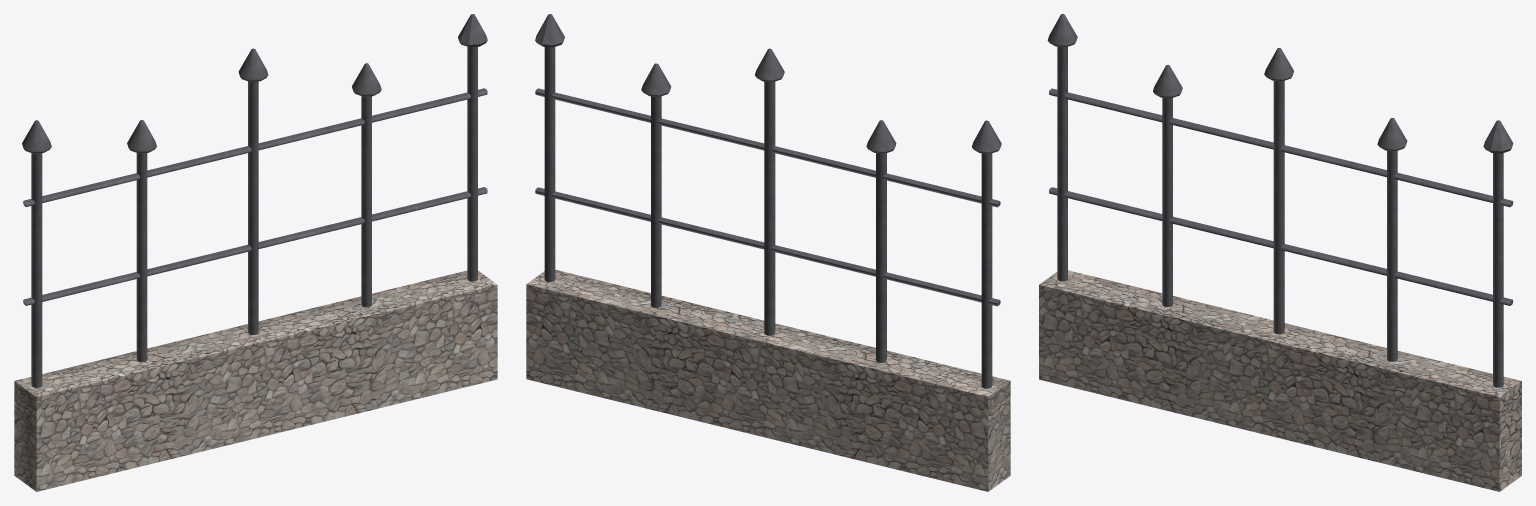
File: Walls_Garden.fbx
3 views of the same model, side by side, from view 1: azimuth 30°, elevation 25°; view 2: azimuth 150°, elevation 25°; view 3: azimuth 330°, elevation 25° (orthographic).
Parts seen in each view (by area): view 1: Walls_Garden; view 2: Walls_Garden; view 3: Walls_Garden.
Part boxes in pixels (bbox=[...]): Walls_Garden: bbox=[14, 14, 497, 491]; Walls_Garden: bbox=[526, 14, 1010, 491]; Walls_Garden: bbox=[1039, 14, 1521, 491].
Size of the model in its own units: 322 by 251 by 26.69.
